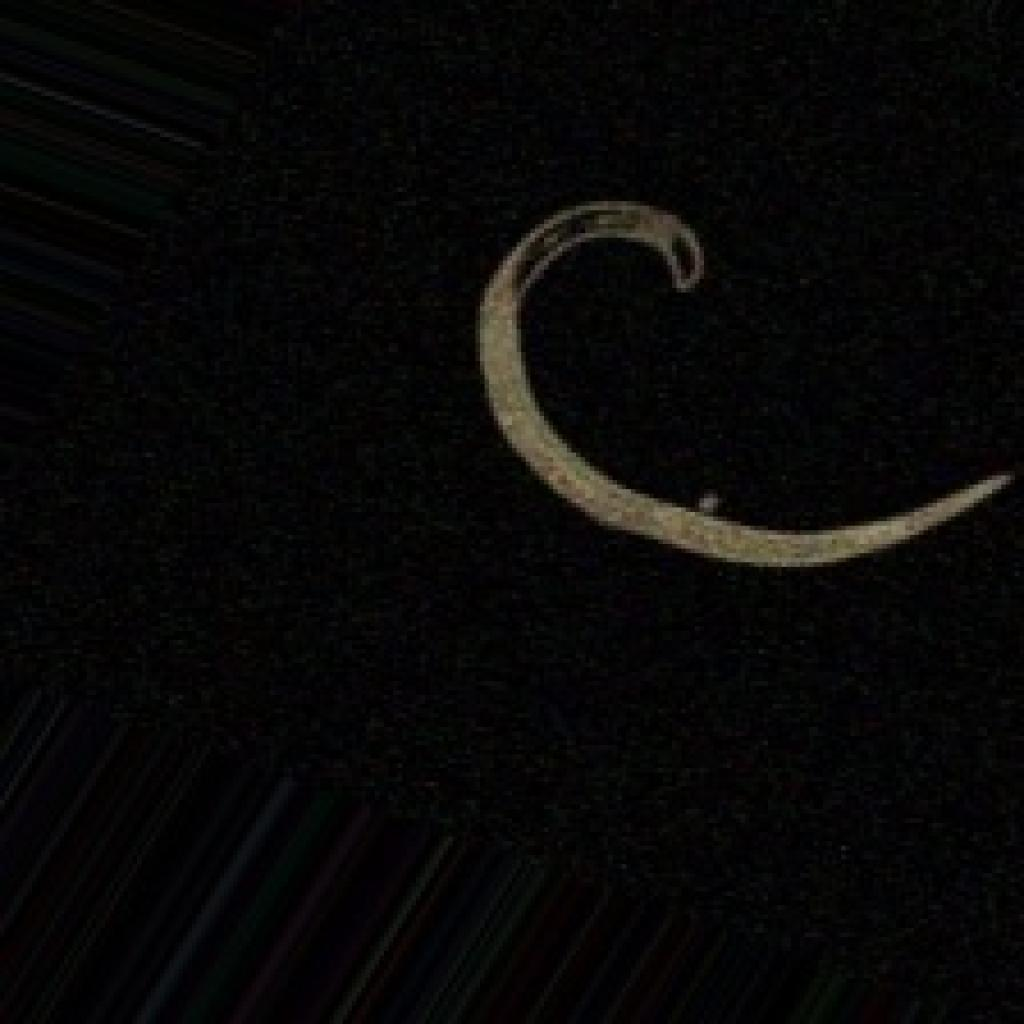Nematode: (0, 0, 1019, 1019), (466, 188, 1020, 572)
